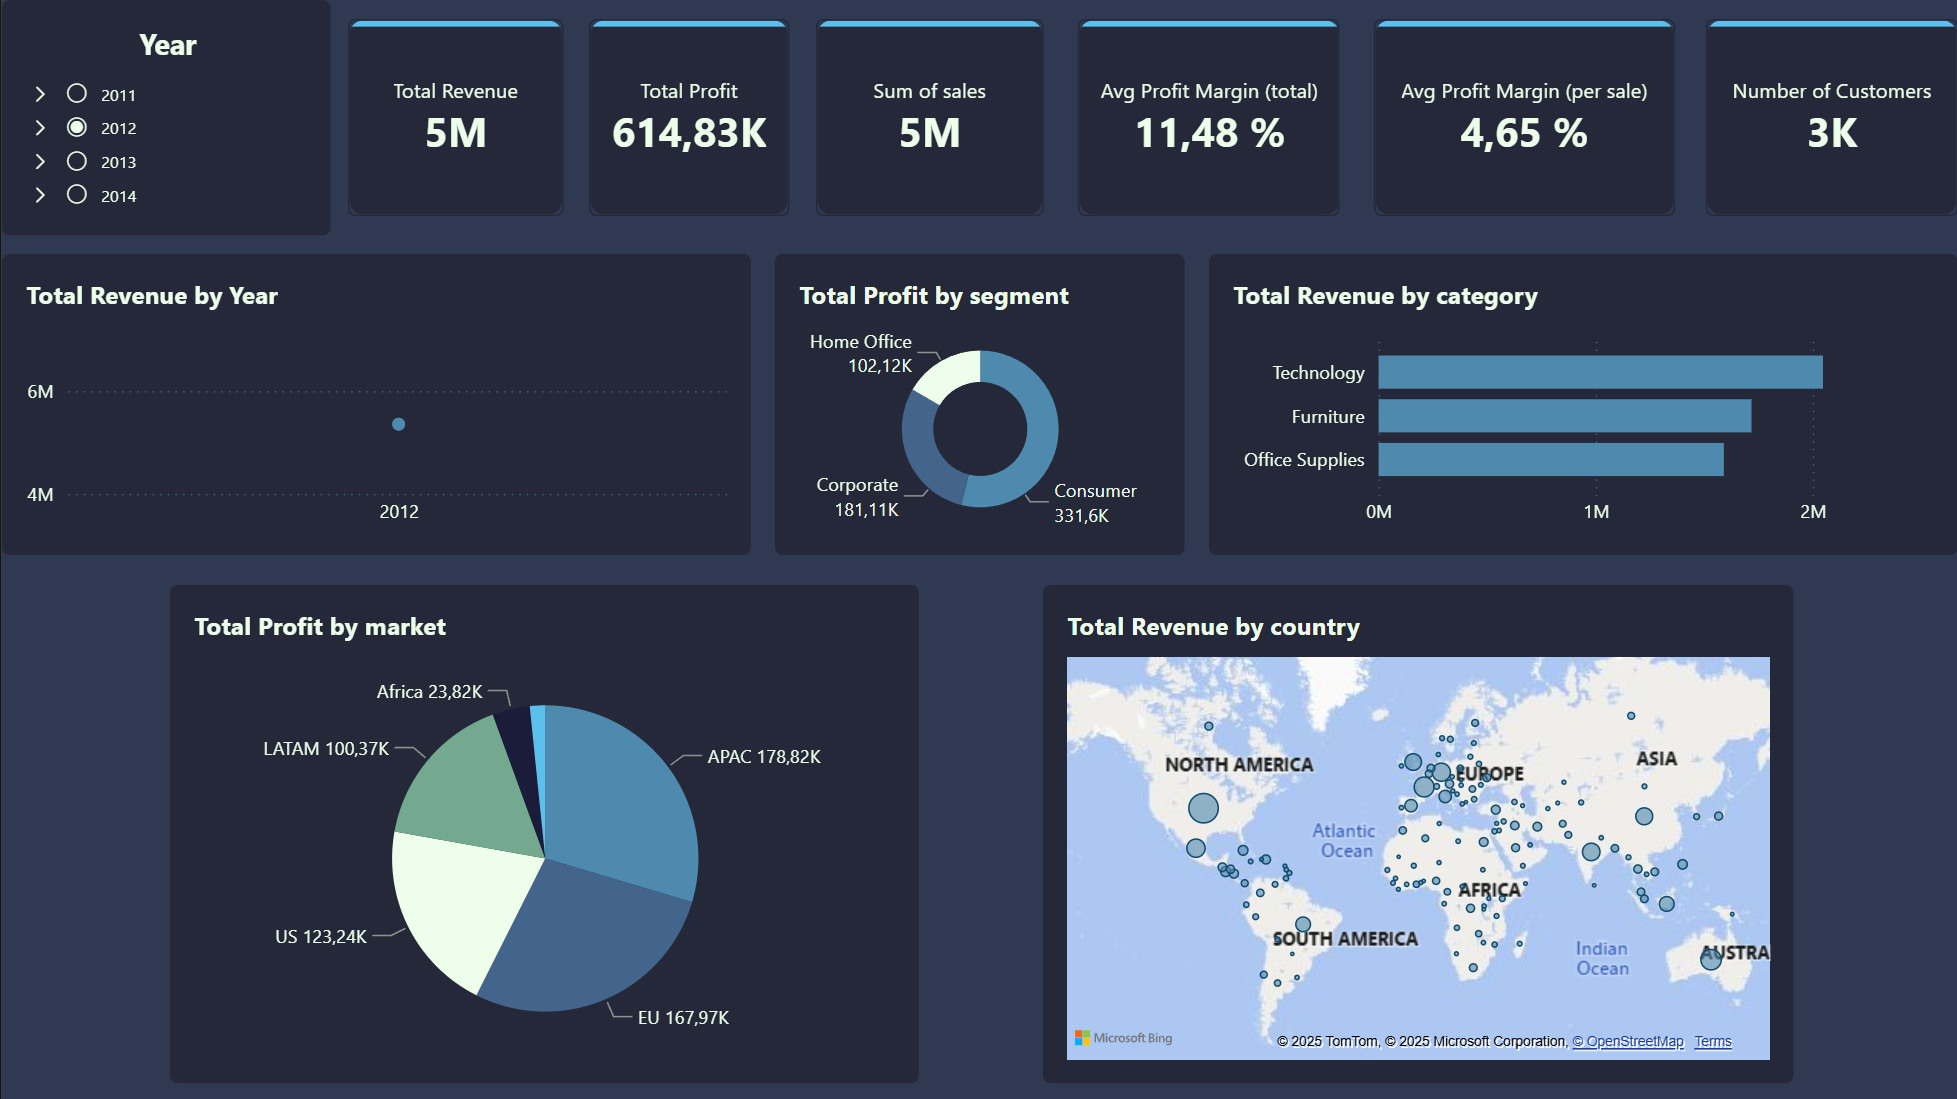

What the dashboard file says about the page in this screenshot:
{"tool":"powerbi","page":{"name":"Page 1","canvas":[1280,720],"ordinal":0},"visuals":[{"type":"listSlicer","fields":{"Values":["public orders.order_date.Variation.Date Hierarchy.Year","public orders.order_date.Variation.Date Hierarchy.Quarter","public orders.order_date.Variation.Date Hierarchy.Month","public orders.order_date.Variation.Date Hierarchy.Day"]},"box":[0,0,215.3,154.4],"z":0},{"type":"cardVisual","fields":{"Data":["Measure Table.Total Revenue"]},"box":[226.4,12.4,140.7,128.9],"z":1000},{"type":"cardVisual","fields":{"Data":["Measure Table.Total Profit"]},"box":[384.1,12.4,130.9,128.9],"z":2000},{"type":"cardVisual","fields":{"Data":["Measure Table.Avg Profit Margin (weighted)"]},"box":[704.1,12.4,171.5,128.9],"z":3000},{"type":"cardVisual","fields":{"Data":["Measure Table.Avg Profit Margin (row avg)"]},"box":[897.8,12.4,197,128.9],"z":4000},{"type":"cardVisual","fields":{"Data":["Measure Table.Number of Customers"]},"box":[1115.1,12.4,164.9,128.9],"z":5000},{"type":"cardVisual","fields":{"Data":["Sum(public orders.sales)"]},"box":[532.7,12.4,148.5,128.9],"z":6000},{"type":"clusteredBarChart","fields":{"Category":["public orders.category"],"Y":["Measure Table.Total Revenue"]},"box":[789.9,166.2,490.1,197],"z":7000},{"type":"lineChart","fields":{"Category":["public orders.order_date.Variation.Date Hierarchy.Year","public orders.order_date.Variation.Date Hierarchy.Quarter","public orders.order_date.Variation.Date Hierarchy.Month","public orders.order_date.Variation.Date Hierarchy.Day"],"Y":["Measure Table.Total Revenue"]},"box":[0,166.2,490.1,197],"z":8000},{"type":"donutChart","fields":{"Category":["public orders.segment"],"Y":["Measure Table.Total Profit"]},"box":[505.8,166.2,267.6,197],"z":9000},{"type":"pieChart","fields":{"Y":["Measure Table.Total Profit"],"Category":["public orders.market_1"]},"box":[109.9,382.8,490.1,325.9],"z":10000},{"type":"map","fields":{"Category":["public orders.country"],"Size":["Measure Table.Total Revenue"]},"box":[681.2,382.8,490.8,325.9],"z":11000}]}

Visuals, with their boxes in screenshot pixels (x1, y1, x2, y2), scaled from the page's 1280x720 canvas onto the 1957x1099 screenshot:
listSlicer - public orders.order_date.Variation.Date Hierarchy.Year x public orders.order_date.Variation.Date Hierarchy.Quarter: 0,0,329,236
cardVisual - Measure Table.Total Revenue: 346,19,561,216
cardVisual - Measure Table.Total Profit: 587,19,787,216
cardVisual - Measure Table.Avg Profit Margin (weighted): 1077,19,1339,216
cardVisual - Measure Table.Avg Profit Margin (row avg): 1373,19,1674,216
cardVisual - Measure Table.Number of Customers: 1705,19,1956,216
cardVisual - Sum(public orders.sales): 814,19,1041,216
clusteredBarChart - public orders.category x Measure Table.Total Revenue: 1208,254,1956,554
lineChart - public orders.order_date.Variation.Date Hierarchy.Year x public orders.order_date.Variation.Date Hierarchy.Quarter: 0,254,749,554
donutChart - public orders.segment x Measure Table.Total Profit: 773,254,1182,554
pieChart - Measure Table.Total Profit x public orders.market_1: 168,584,917,1082
map - public orders.country x Measure Table.Total Revenue: 1041,584,1792,1082
